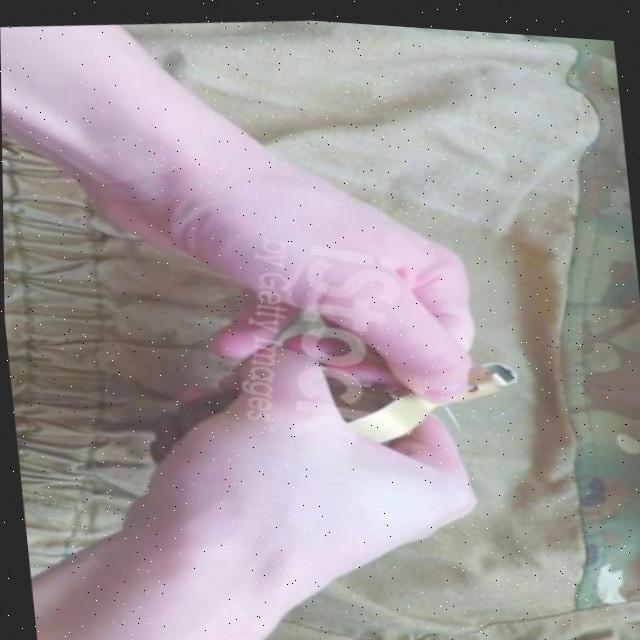grenade: (130, 274, 533, 553)
